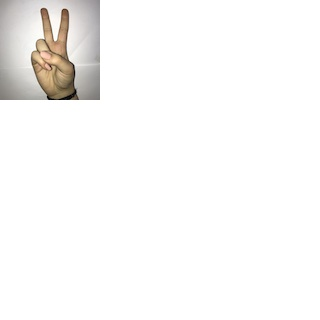scissors: (28, 6, 83, 98)
